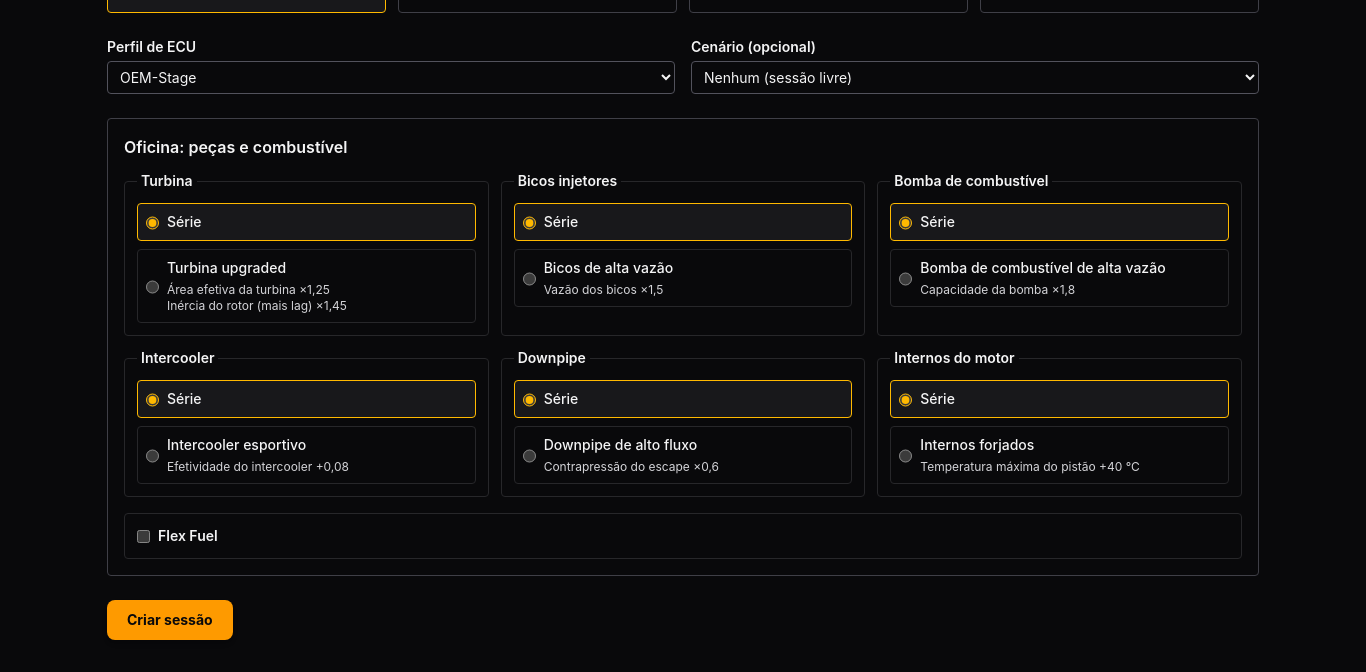
HomePage com a oficina (002 RF-19) › erro 422 UPGRADE_NOT_COMPATIBLE tem mensagem clara
The image size is (1366, 672).
(page scrolled)
Click the checkbox labelled "Flex Fuel" at (144, 536), box [137, 530, 150, 542]
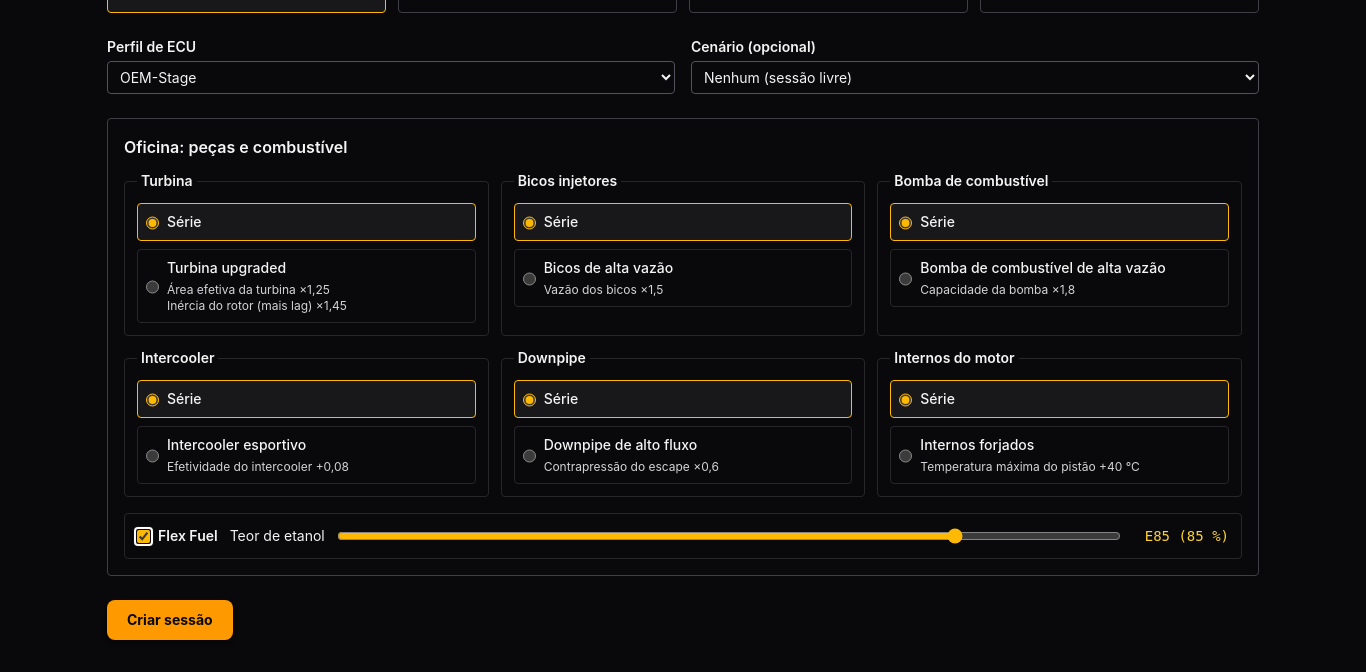
Click the button "Criar sessão" at (170, 620), box [107, 600, 233, 640]
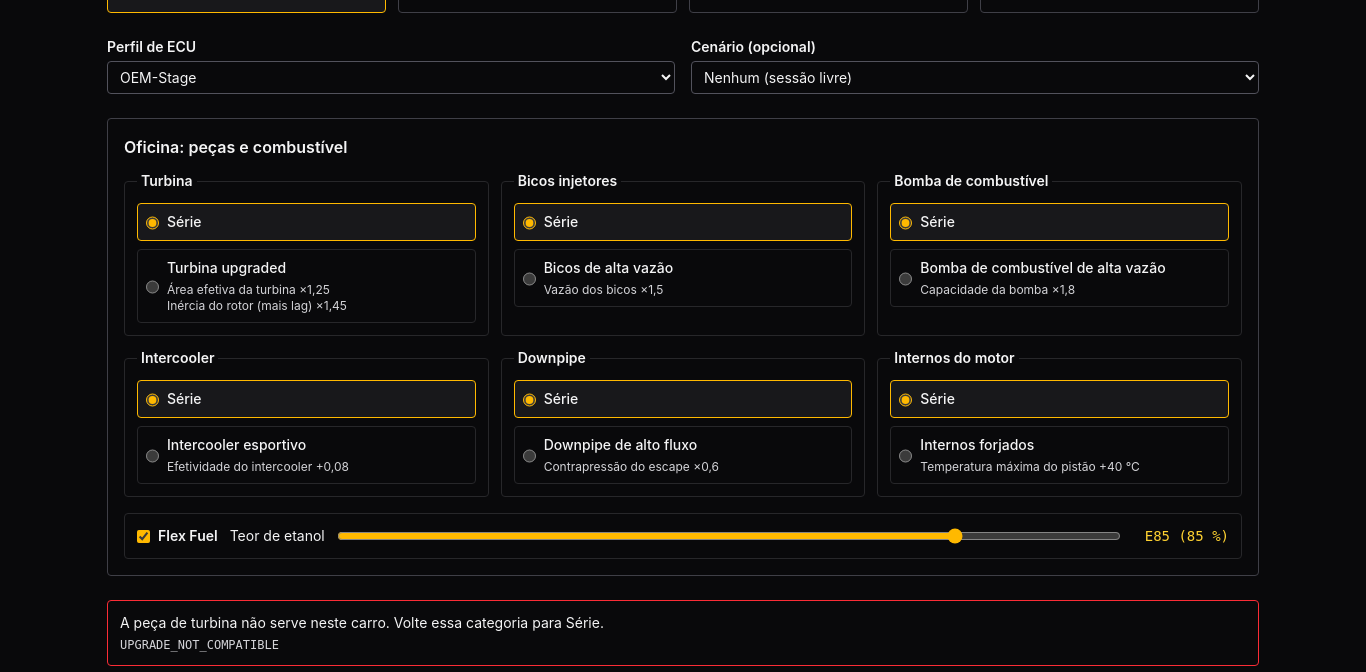
Result: the message shows "A peça de turbina não serve neste carro" at [120, 614, 604, 631]
Result: the message shows "UPGRADE_NOT_COMPATIBLE" at [120, 638, 279, 652]
